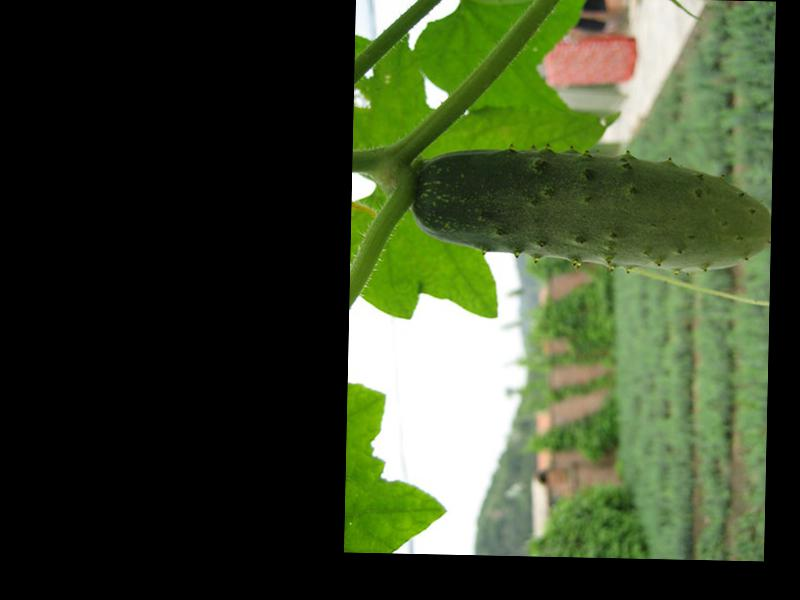Cucumber: (411, 147, 771, 270)
